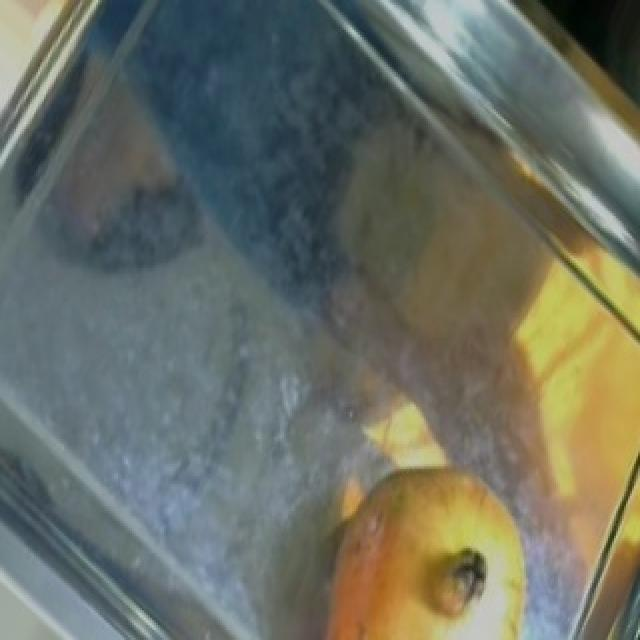fruit: (296, 429, 560, 640)
